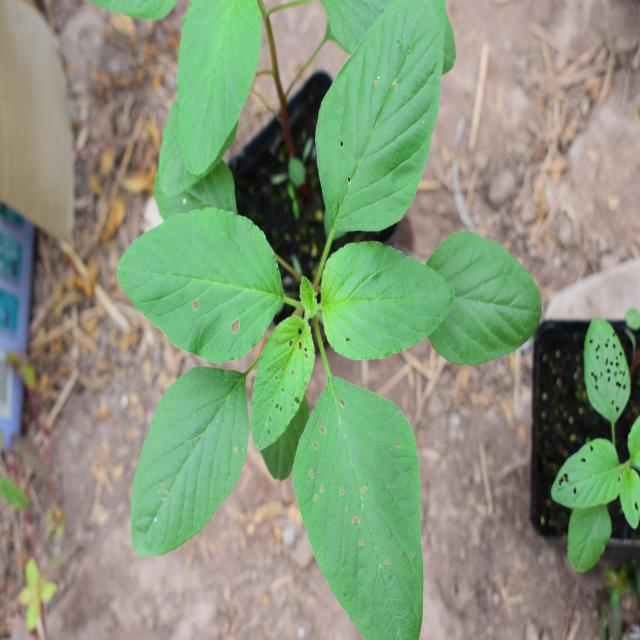pigweed: (144, 34, 515, 601)
